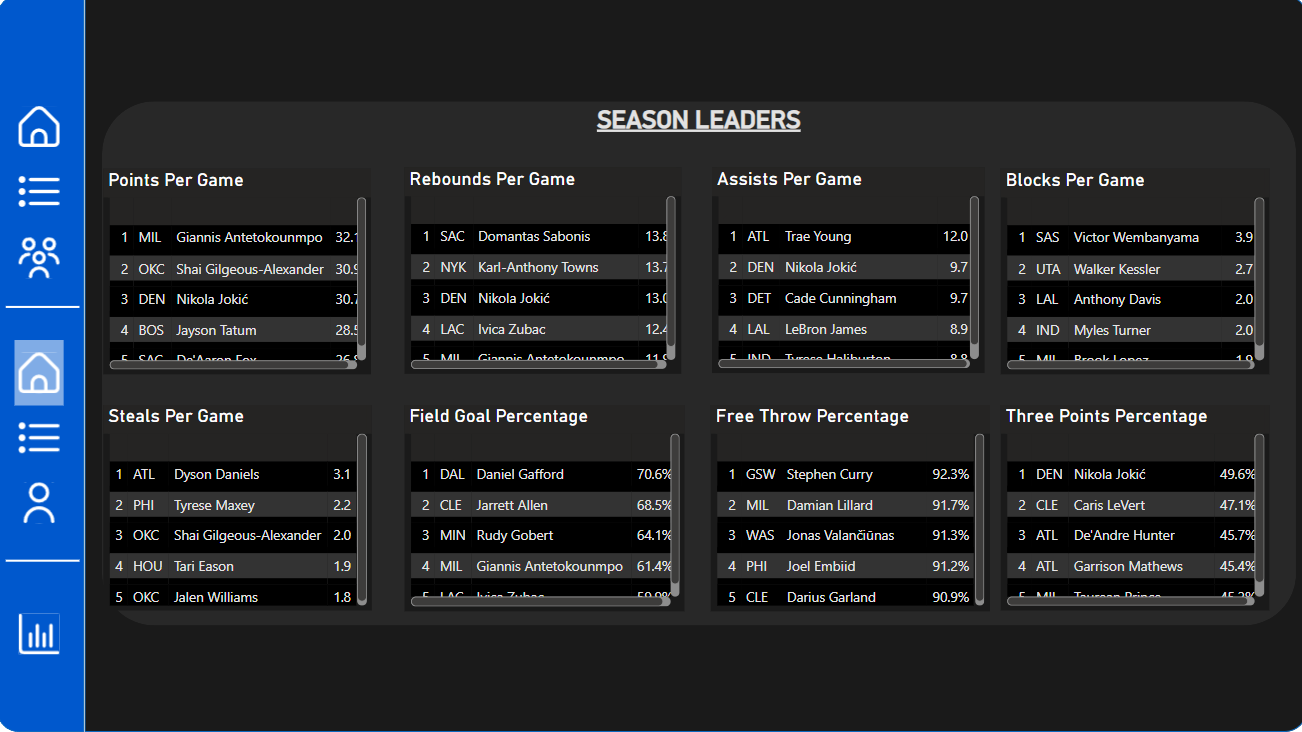

Layout of this report page (visuals, bound fields, positions):
{"tool":"powerbi","page":{"name":"Player Stats Overview","canvas":[1280,720],"ordinal":3},"visuals":[{"type":"shape","box":[85,0,1195,720],"z":0},{"type":"shape","box":[103.6,166.4,1166.4,511.8],"z":1000},{"type":"shape","box":[0,0,85,720],"z":2000},{"type":"tableEx","title":"Points Per Game","fields":{"Values":["select","team_slicer_specific.ShortName","stats.name","stats.measure_leader_ppg"]},"box":[119.1,225.5,261.8,200.9],"z":3000},{"type":"tableEx","title":"Rebounds Per Game","fields":{"Values":["select","team_slicer_specific.ShortName","stats.name","stats.measure_leader_rbg"]},"box":[412.2,224.4,262.2,201.1],"z":4000},{"type":"tableEx","title":"Steals Per Game","fields":{"Values":["select","team_slicer_specific.ShortName","stats.name","stats.measure_leader_spg"]},"box":[118.9,456.7,262.2,201.1],"z":5000},{"type":"tableEx","title":"Field Goal Percentage","fields":{"Values":["select","team_slicer_specific.ShortName","stats.name","Avg(stats.fg_percent)"]},"box":[412.3,456.2,273.8,201.5],"z":6000},{"type":"tableEx","title":"Free Throw Percentage","fields":{"Values":["select","team_slicer_specific.ShortName","stats.name","stats.measure_leader_ft%"]},"box":[712.5,456.2,272.5,201.2],"z":7000},{"type":"tableEx","title":"Three Points Percentage","fields":{"Values":["select","team_slicer_specific.ShortName","stats.name","stats.measure_3p%"]},"box":[995.6,456.7,262.2,201.1],"z":8000},{"type":"tableEx","title":"Assists Per Game","fields":{"Values":["select","team_slicer_specific.ShortName","stats.name","Avg(stats.assists)"]},"box":[713,225,266,201],"z":9000},{"type":"tableEx","title":"Blocks Per Game","fields":{"Values":["select","team_slicer_specific.ShortName","stats.name","stats.measure_leader_bpg"]},"box":[995.6,225.6,262.2,201.1],"z":10000},{"type":"textbox","box":[547.5,176.2,301.2,48.8],"z":11000}]}

Visuals, with their boxes on the page's 1280x720 design canvas (x1, y1, x2, y2). These are canvas units, not pixel positions in the 1302x732 screenshot, which may show the page scaled, cropped or inside an application window:
shape: l=85, t=0, r=1280, b=720
shape: l=104, t=166, r=1270, b=678
shape: l=0, t=0, r=85, b=720
"Points Per Game" tableEx: l=119, t=226, r=381, b=426
"Rebounds Per Game" tableEx: l=412, t=224, r=674, b=426
"Steals Per Game" tableEx: l=119, t=457, r=381, b=658
"Field Goal Percentage" tableEx: l=412, t=456, r=686, b=658
"Free Throw Percentage" tableEx: l=712, t=456, r=985, b=657
"Three Points Percentage" tableEx: l=996, t=457, r=1258, b=658
"Assists Per Game" tableEx: l=713, t=225, r=979, b=426
"Blocks Per Game" tableEx: l=996, t=226, r=1258, b=427
textbox: l=548, t=176, r=849, b=225
